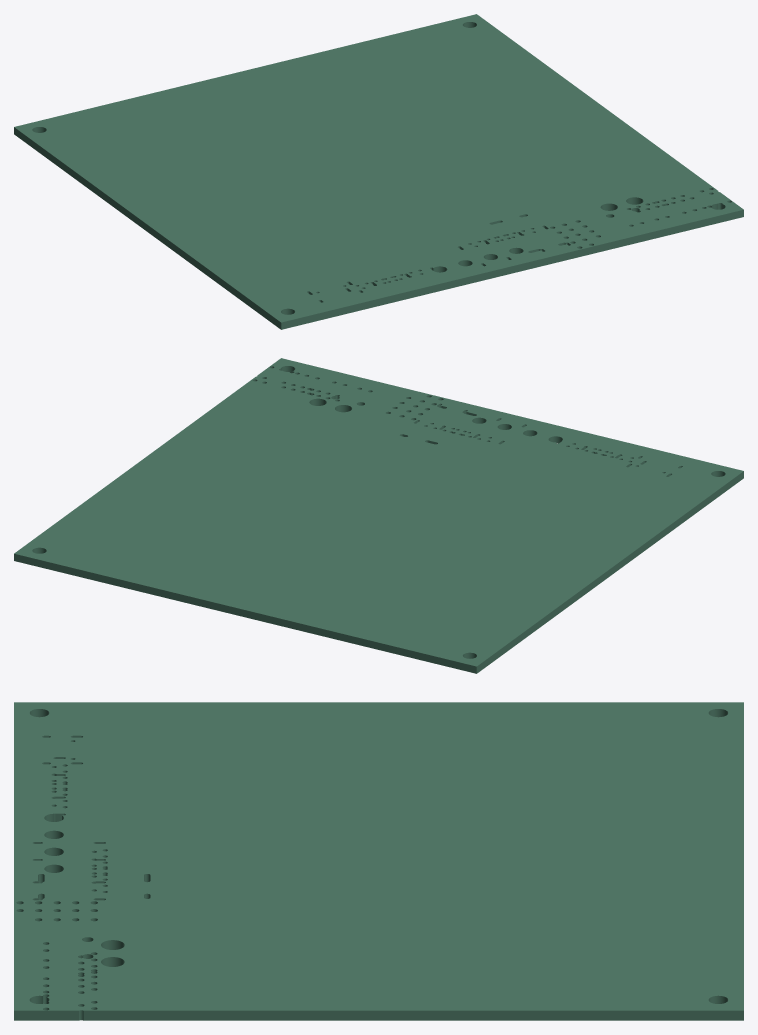
Rendered from nodepad-board.glb.
3 views of the same model, one above another, from view 1: azimuth 30°, elevation 25°; view 2: azimuth 150°, elevation 25°; view 3: azimuth 270°, elevation 25° (orthographic). The views are drawn at different scales.
Parts seen in each view (by area): view 1: =>[0:1:1:2]; view 2: =>[0:1:1:2]; view 3: =>[0:1:1:2].
Part boxes in pixels (left/top/right/bottom): =>[0:1:1:2]: left=14, top=14, right=743, bottom=329; =>[0:1:1:2]: left=14, top=358, right=743, bottom=673; =>[0:1:1:2]: left=14, top=702, right=743, bottom=1020.
Size of the model in its own units: 0.1 by 0.00151 by 0.1.
